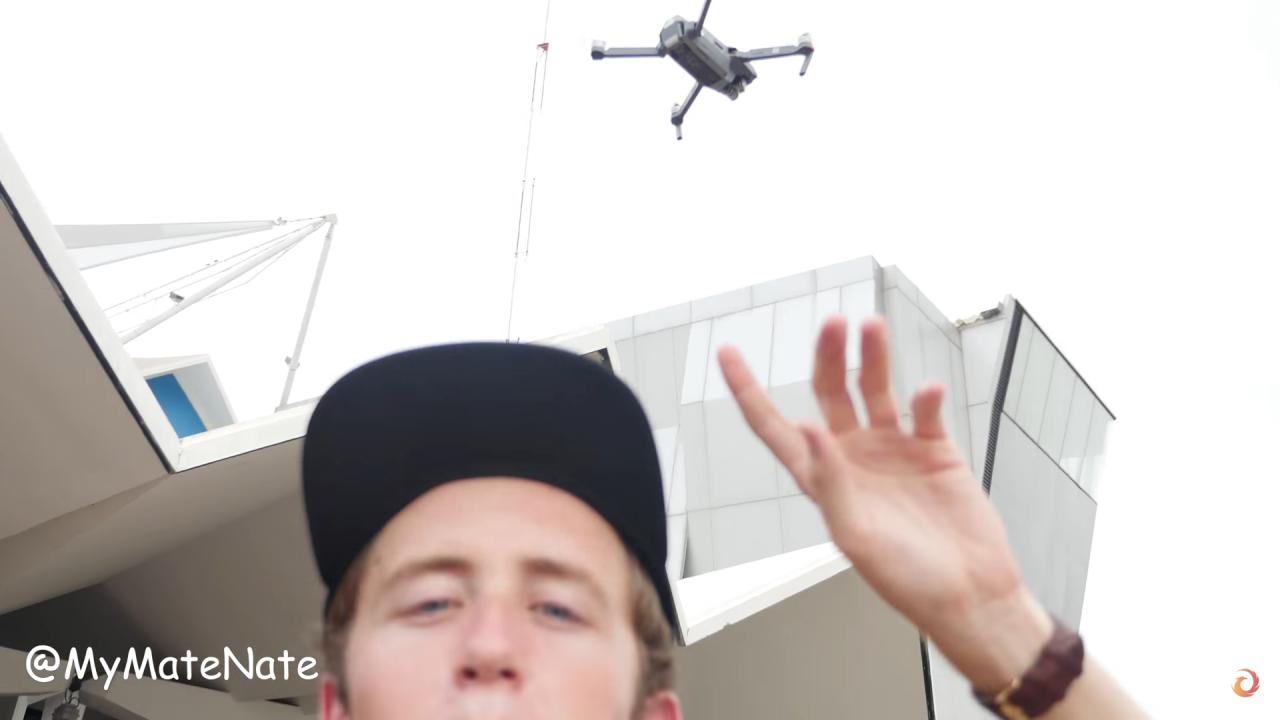Drone: (581, 0, 823, 150)
